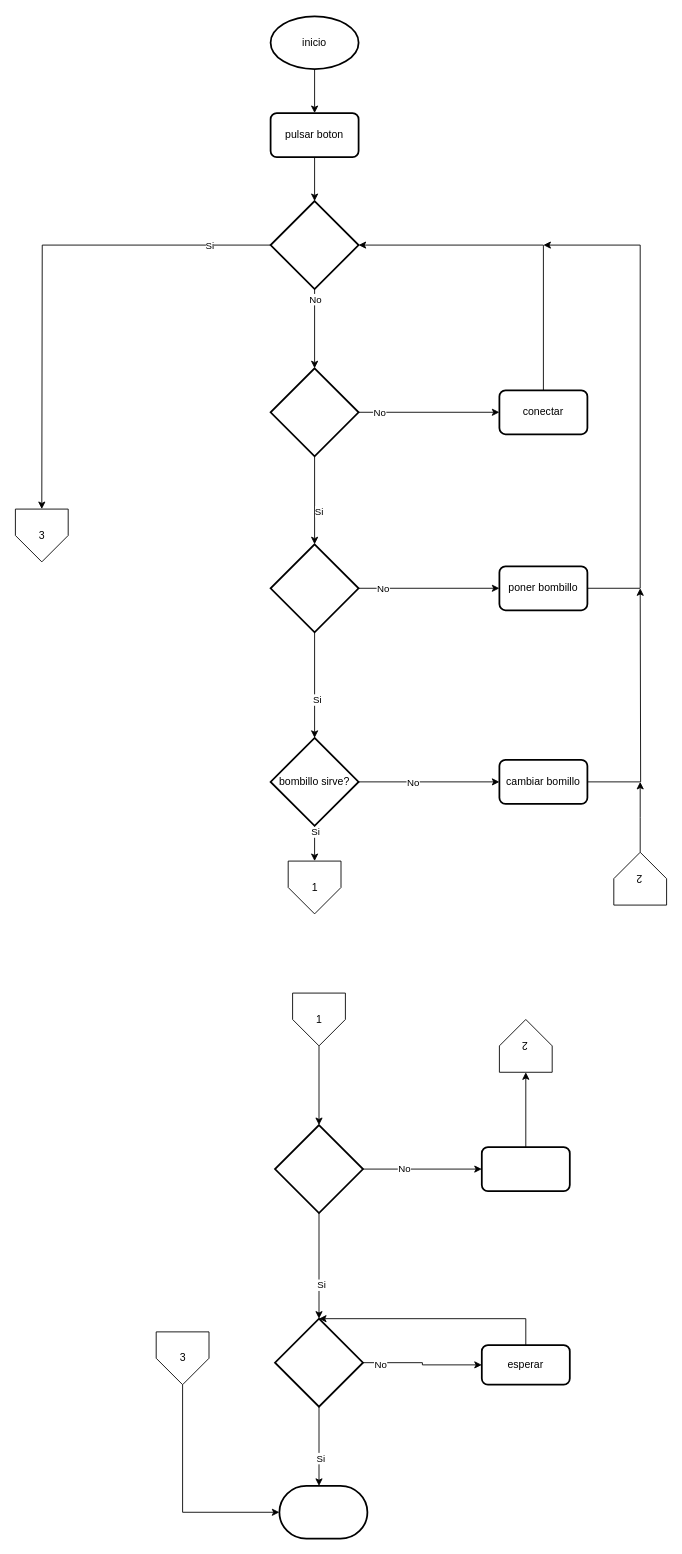
Some shapes in this 682 by 1554 pixel diagram are drawn without their labels. The centre of each missing label's shape, as x and y in pixels:
"arreglar cables" belongs at [525,1169].
"cable y enchufe ok?" belongs at [318,1169].
"enciende" belongs at [314,245].
"fin" belongs at [323,1512].
"hay energia?" belongs at [318,1362].
"lampara conectada?" belongs at [314,412].
"tiene bomibllo?" belongs at [314,588].
